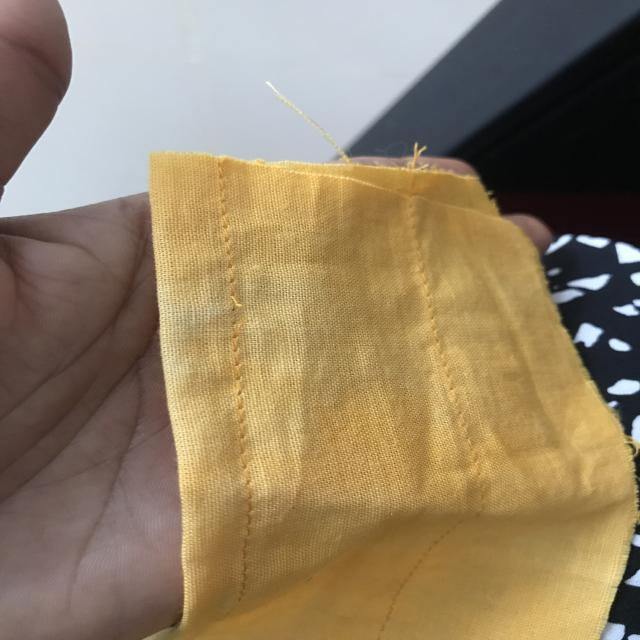broken: (213, 288, 266, 340)
